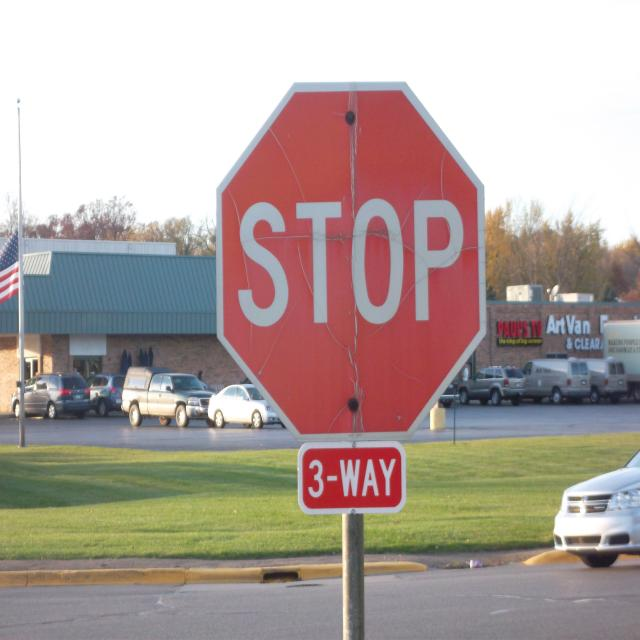stop: (213, 76, 489, 445)
